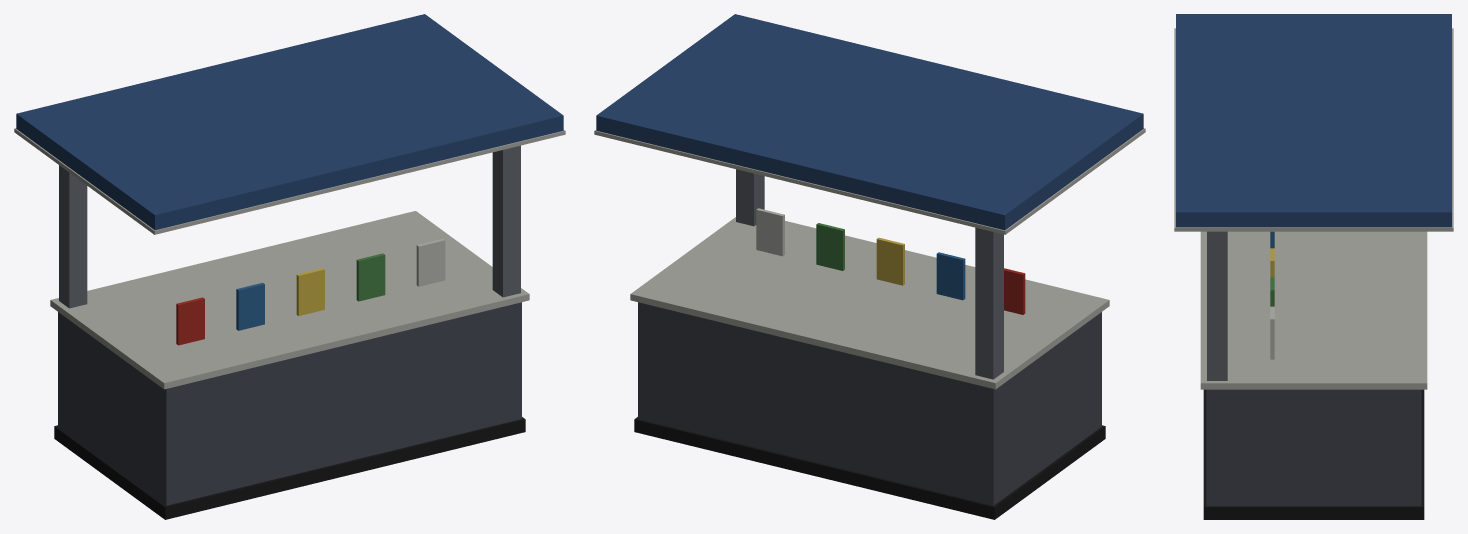
The model's file is kiosk.glb.
The picture shows the model from 3 angles, left to right: view 1: azimuth 30°, elevation 25°; view 2: azimuth 150°, elevation 25°; view 3: azimuth 270°, elevation 25°; orthographic projection.
Visible parts, largest first — view 1: kiosk; view 2: kiosk; view 3: kiosk.
Part boxes in pixels (left/top/right/bottom): kiosk: left=14, top=14, right=565, bottom=519; kiosk: left=594, top=14, right=1145, bottom=519; kiosk: left=1174, top=14, right=1453, bottom=519.
Size of the model in its own units: 3.42 by 2.55 by 2.02.
